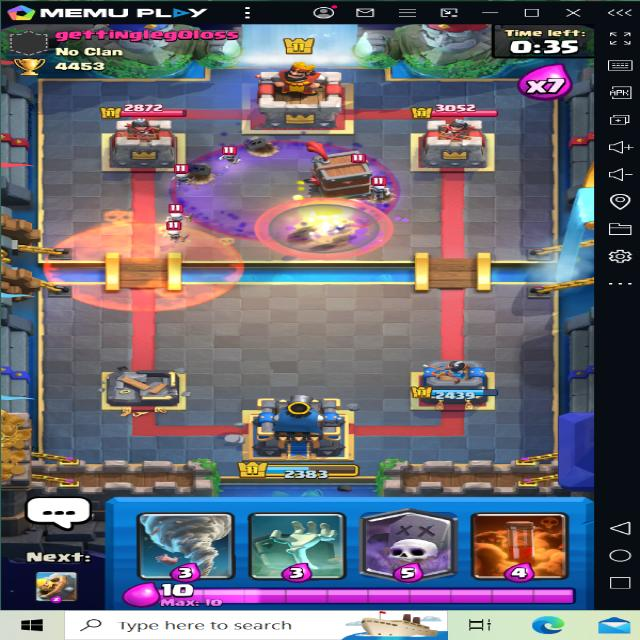graveyard: (175, 128, 402, 245)
poison: (49, 211, 239, 311)
royal-delivery: (303, 142, 378, 206)
skeleton: (166, 215, 195, 243), (167, 201, 199, 225), (217, 144, 250, 167), (162, 165, 199, 185), (366, 177, 394, 196)
